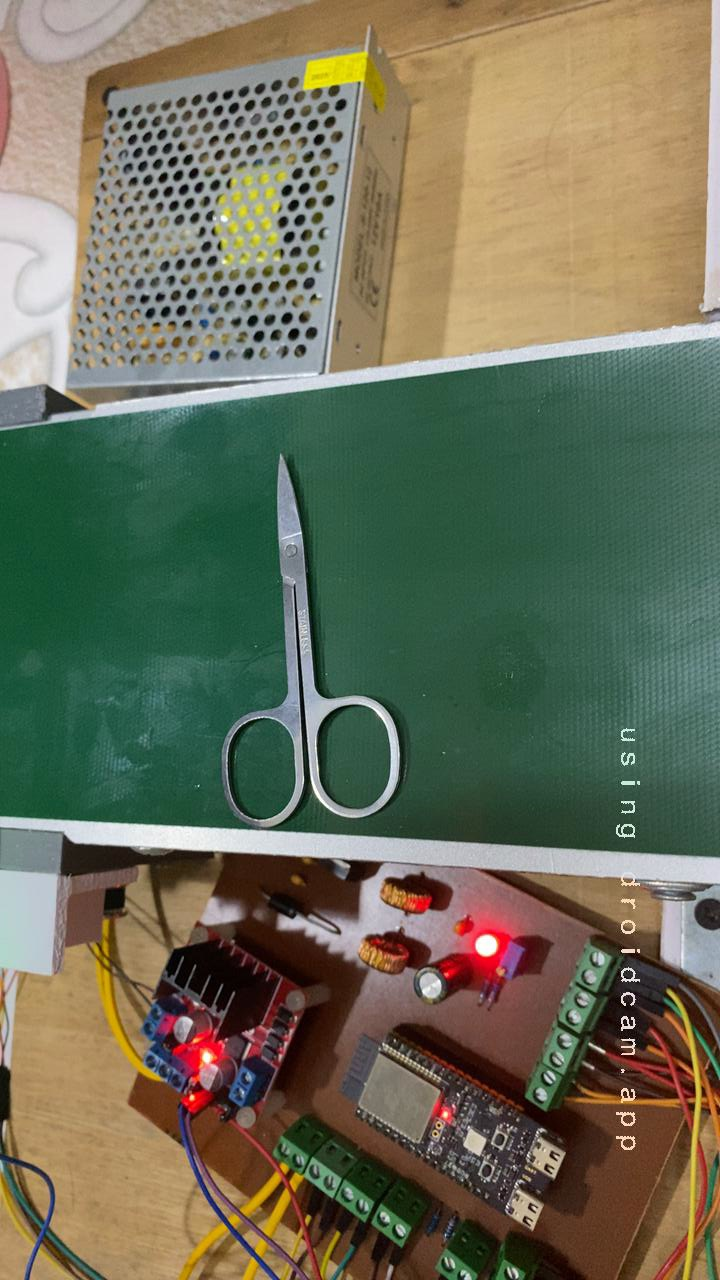scissor: (179, 442, 424, 852)
